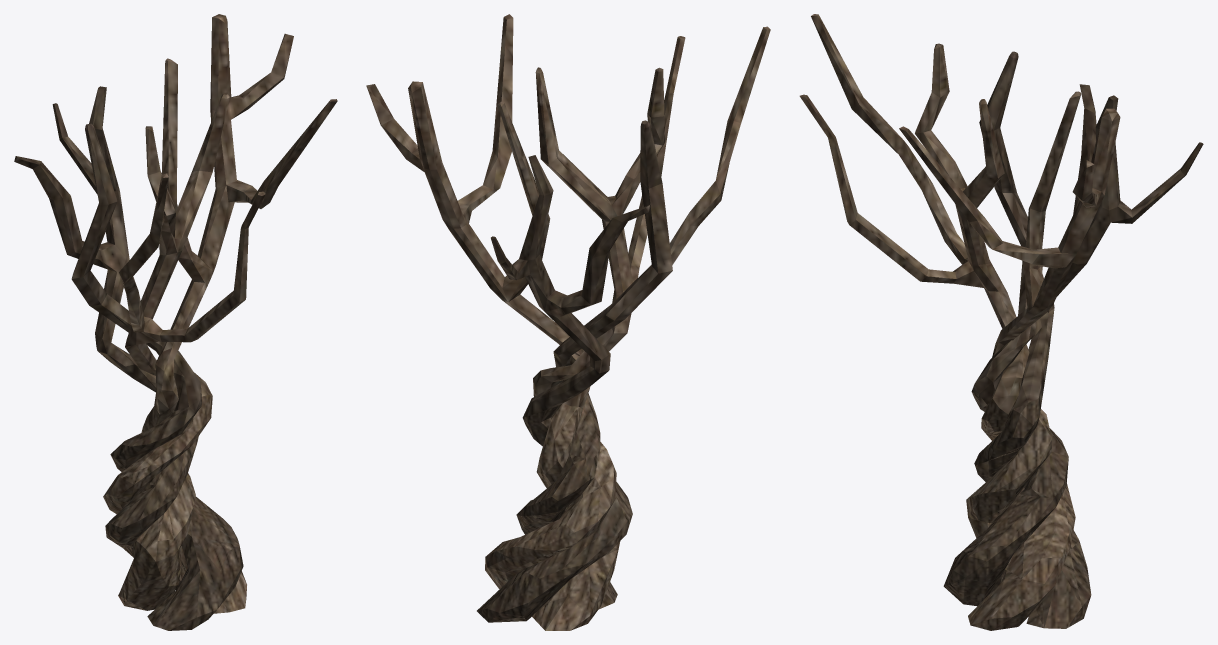
File: Tree5.fbx
The picture shows the model from 3 angles, left to right: view 1: azimuth 30°, elevation 25°; view 2: azimuth 150°, elevation 25°; view 3: azimuth 270°, elevation 25°; orthographic projection.
Parts seen in each view (by area): view 1: tree_05; view 2: tree_05; view 3: tree_05.
Part boxes in pixels (bbox=[...]): tree_05: bbox=[14, 14, 337, 630]; tree_05: bbox=[366, 14, 770, 630]; tree_05: bbox=[799, 14, 1203, 630].
Bounding box in the file's own units: 3.73 × 6.75 × 4.61.
